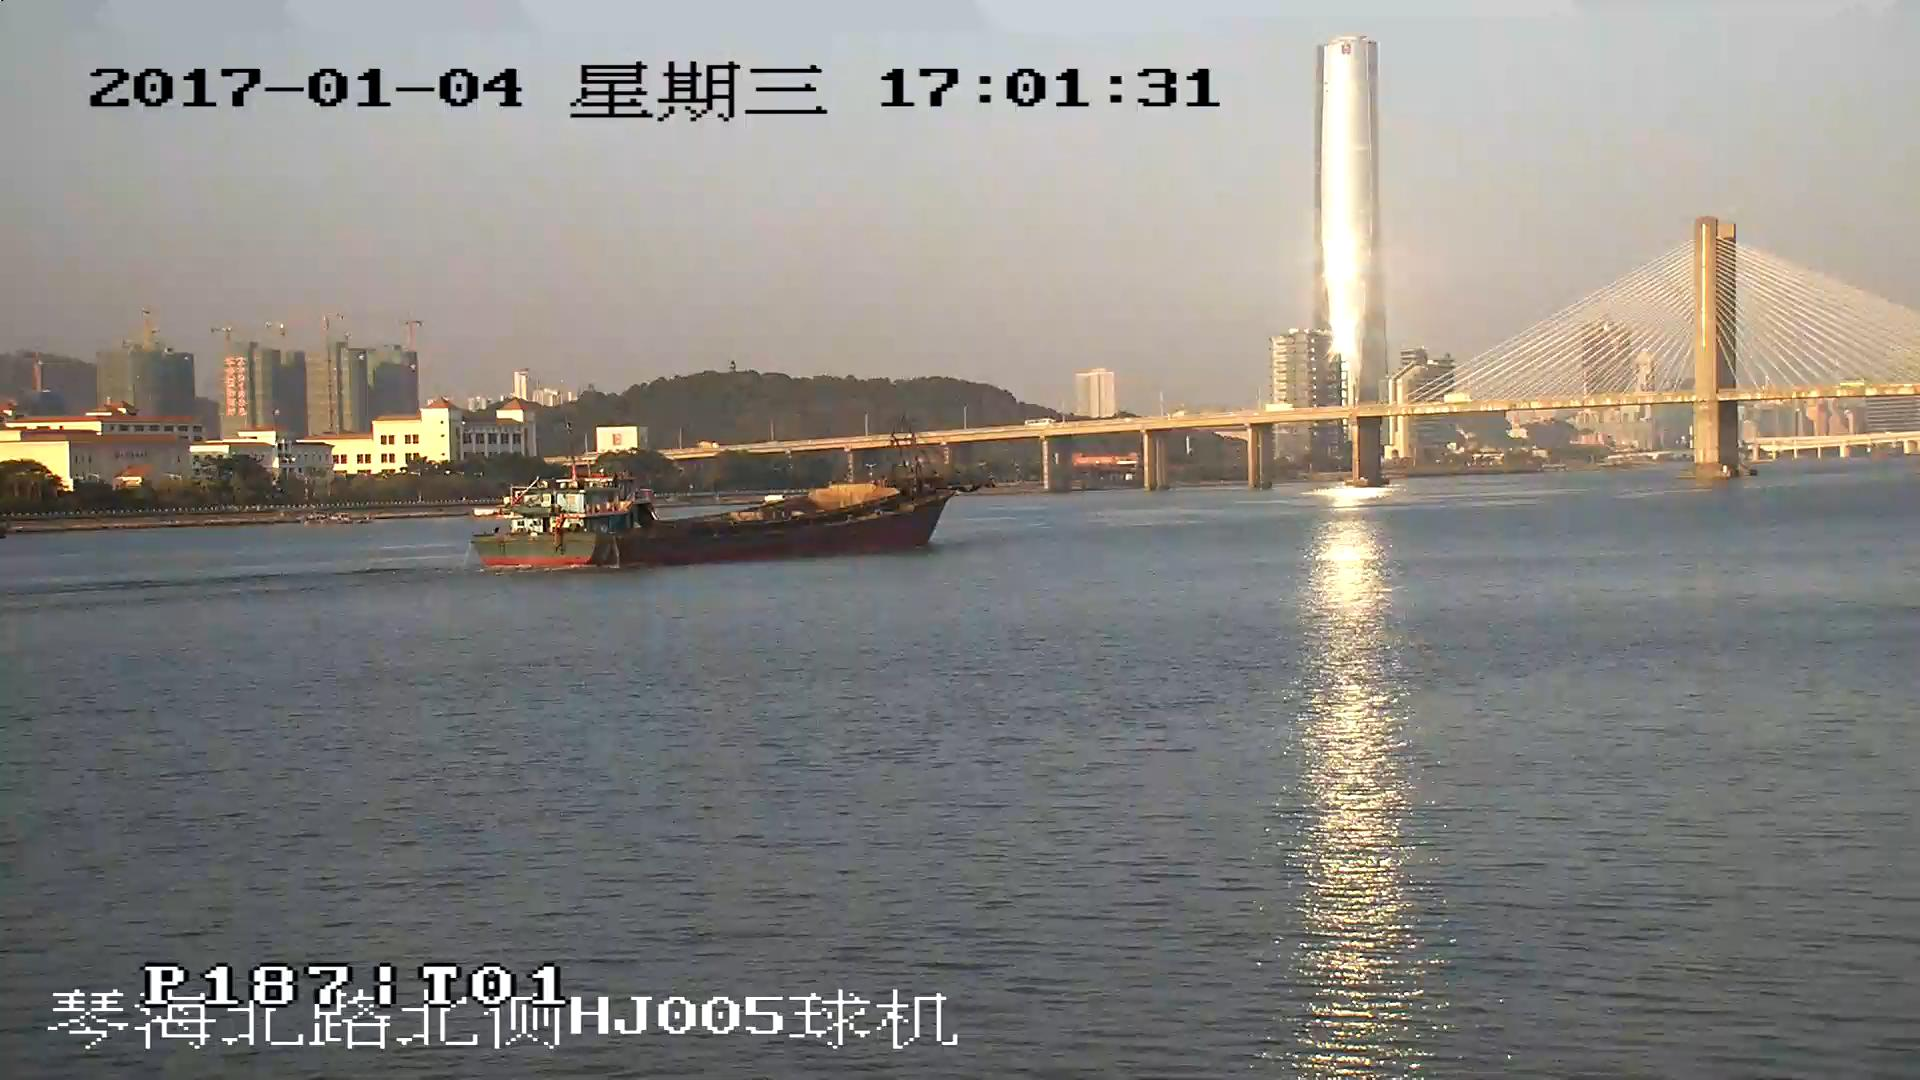bulk cargo carrier: (469, 445, 986, 567)
